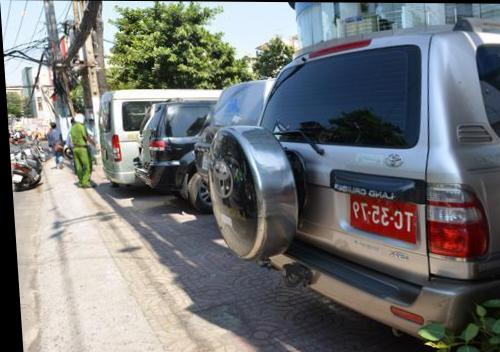License_Plate: (347, 193, 422, 246)
